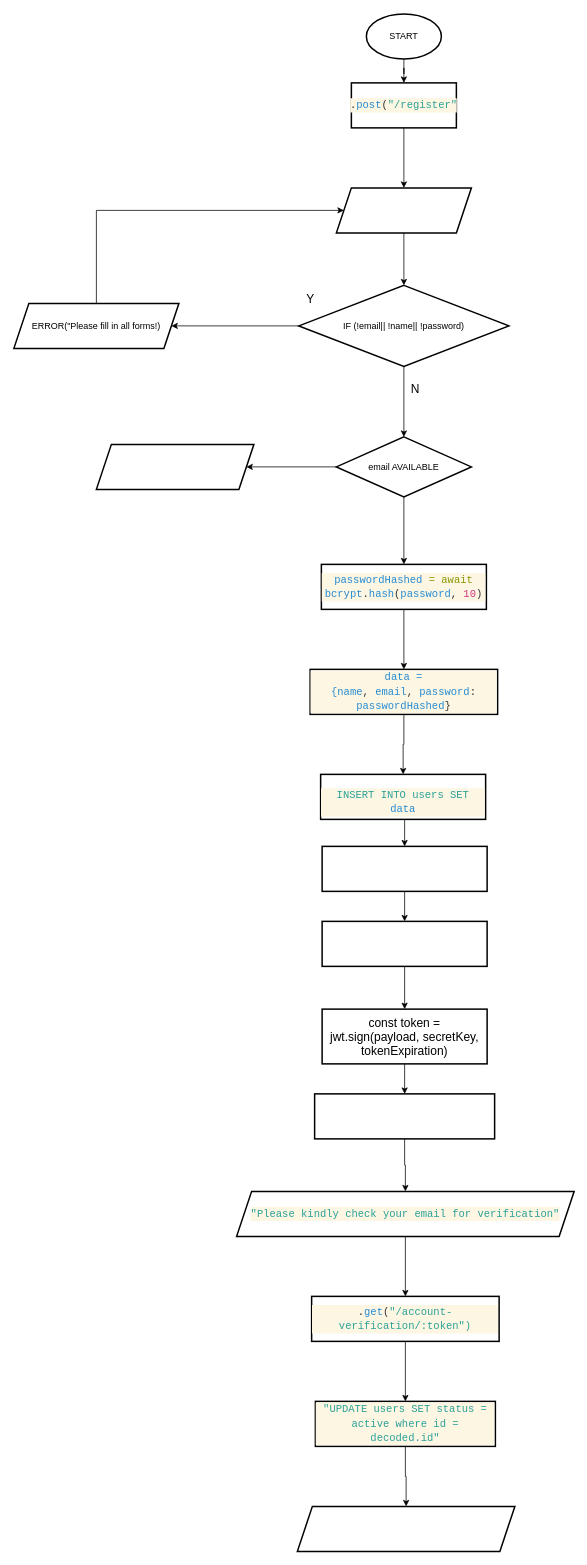
The diagram is 587 pixels wide and 1565 high, and some of its shapes have lost their labels. The shapes that lost their labels are listed below. From the top down, each one's centre as x and y in pixels, then its label:
the point at 403,210: INPUT email, name, password
the point at 174,466: ERROR("Email aready exist")
the point at 404,868: const payload = { email : data . email, id : accountCreated . insertId }
the point at 404,943: const tokenExpiration = { expiresIn : 60 * 60 };
the point at 404,1116: commonHelper . sendEmail ( token , email );
the point at 405,1528: "Your account has been activated"
